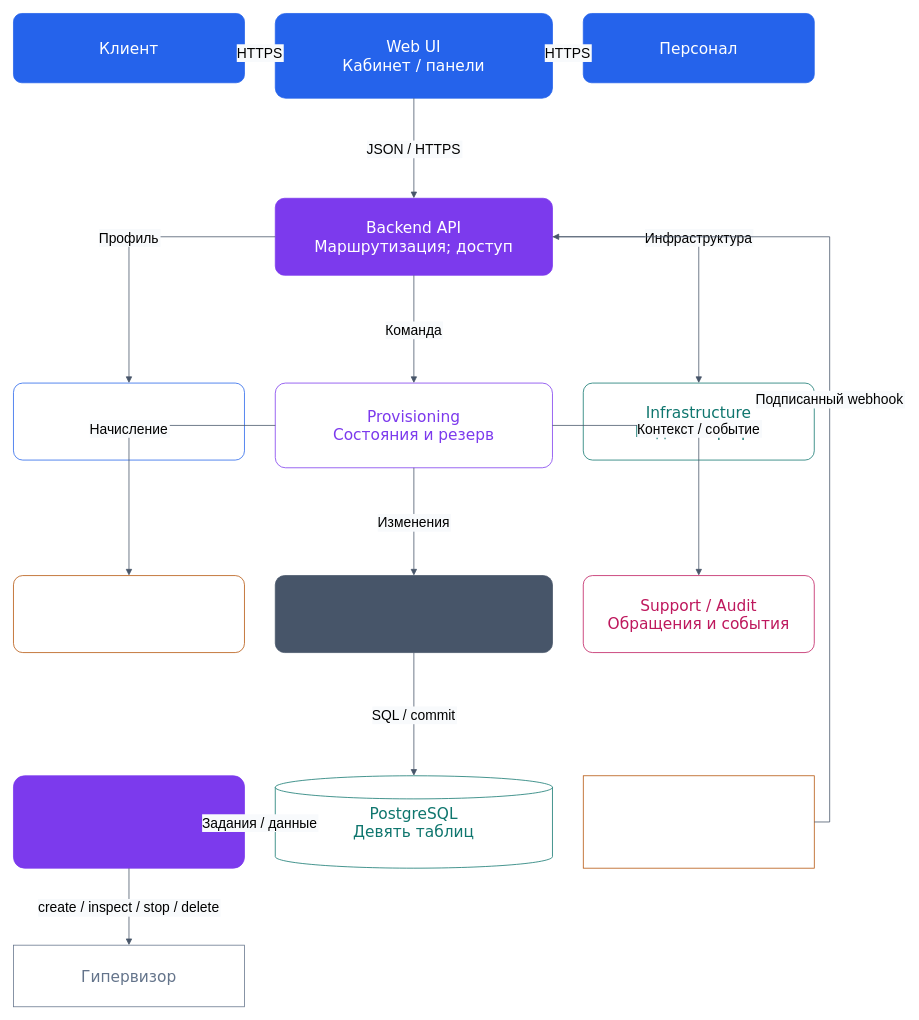
This 919x1020 diagram has some shape labels left out. Each missing label, with the centre of its shape:
Billing Проводки и периоды: (128,614)
Identity Профиль и счёт: (128,421)
Unit of Work Транзакции и блокировки: (413,614)
Worker VM; billing; reconcile: (128,821)
Платёжный провайдер: (698,821)
